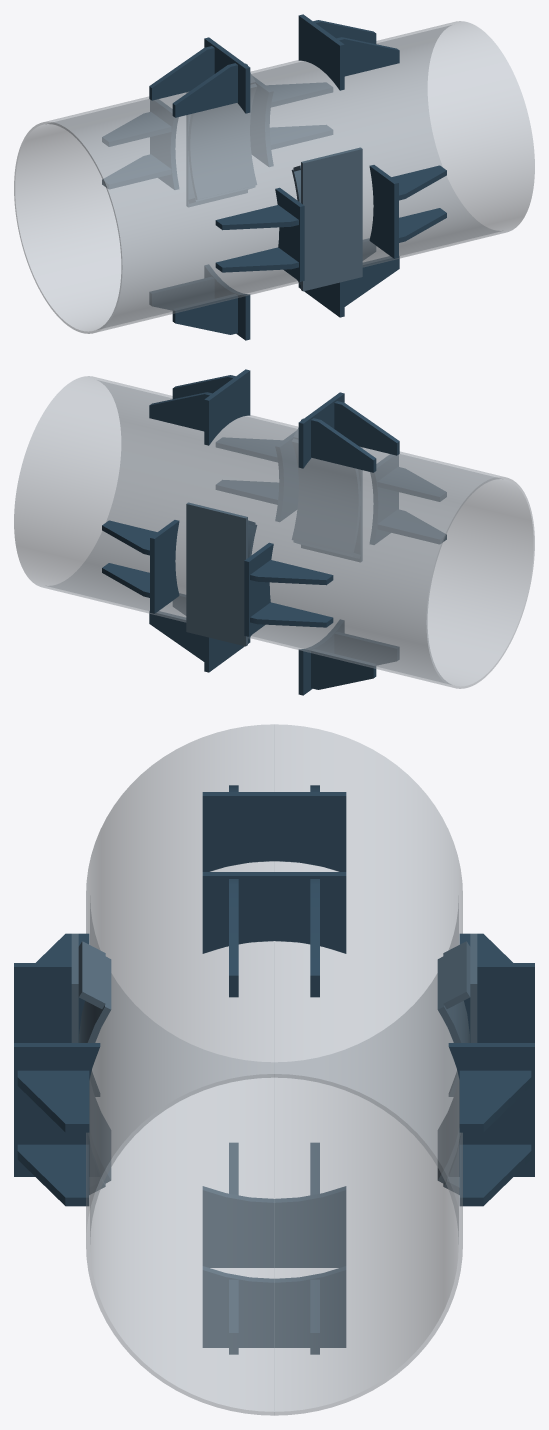
The model's file is TS-668.00.00-16-opora-dn630-ris2.glb.
3 renders of one model, top to bottom at view 1: azimuth 30°, elevation 25°; view 2: azimuth 150°, elevation 25°; view 3: azimuth 270°, elevation 25°, orthographic. The views are drawn at different scales.
Parts seen in each view (by area): view 1: truba, bok_26, bok_29, upor_7, upor_1, upor_6, upor_17, upor_5, upor_10, upor_3, upor_19, upor_22 (+15 smaller); view 2: truba, bok_30, bok_25, upor_19, upor_1, upor_5, upor_18, upor_6, upor_22, upor_2, upor_7, upor_10 (+15 smaller); view 3: truba, upor_4, upor_16, upor_1, upor_13, upor_7, upor_19, upor_10, upor_22, upor_8, upor_21, upor_9 (+9 smaller).
Part boxes in pixels (x1=…): truba: x1=14, y1=21, x2=534, y2=333; bok_26: x1=301, y1=147, x2=362, y2=291; bok_29: x1=188, y1=84, x2=256, y2=199; upor_7: x1=369, y1=165, x2=398, y2=258; upor_1: x1=298, y1=14, x2=344, y2=90; upor_6: x1=172, y1=63, x2=237, y2=117; upor_17: x1=172, y1=294, x2=237, y2=334; upor_5: x1=149, y1=46, x2=214, y2=100; upor_10: x1=275, y1=187, x2=304, y2=281; upor_3: x1=336, y1=37, x2=399, y2=76; upor_19: x1=250, y1=76, x2=273, y2=166; upor_22: x1=150, y1=99, x2=178, y2=189; truba: x1=14, y1=376, x2=534, y2=688; bok_30: x1=186, y1=502, x2=247, y2=646; bok_25: x1=292, y1=439, x2=360, y2=554; upor_19: x1=150, y1=520, x2=179, y2=613; upor_1: x1=204, y1=369, x2=250, y2=445; upor_5: x1=311, y1=418, x2=376, y2=472; upor_18: x1=311, y1=649, x2=376, y2=689; upor_6: x1=334, y1=401, x2=399, y2=455; upor_22: x1=244, y1=542, x2=273, y2=636; upor_2: x1=149, y1=392, x2=212, y2=431; upor_7: x1=275, y1=431, x2=298, y2=521; upor_10: x1=370, y1=454, x2=398, y2=544; truba: x1=86, y1=724, x2=462, y2=1415; upor_4: x1=202, y1=792, x2=346, y2=871; upor_16: x1=202, y1=1186, x2=346, y2=1267; upor_1: x1=202, y1=872, x2=346, y2=953; upor_13: x1=202, y1=1266, x2=346, y2=1347; upor_7: x1=14, y1=1043, x2=100, y2=1176; upor_19: x1=448, y1=1043, x2=534, y2=1176; upor_10: x1=14, y1=963, x2=99, y2=1096; upor_22: x1=449, y1=963, x2=534, y2=1096; upor_8: x1=17, y1=1070, x2=89, y2=1132; upor_21: x1=459, y1=1070, x2=531, y2=1132; upor_9: x1=17, y1=1144, x2=89, y2=1206.
Bounding box in the file's own units: 1382 × 870 × 870.
